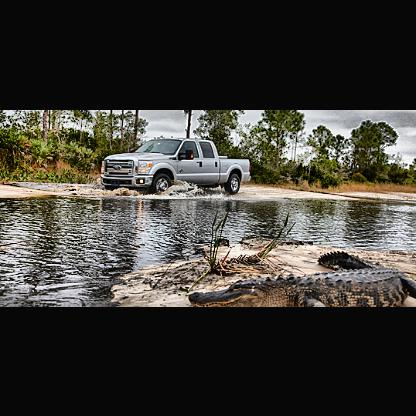Ford F-450 Super Duty Crew Cab 2012: (100, 139, 252, 197)
